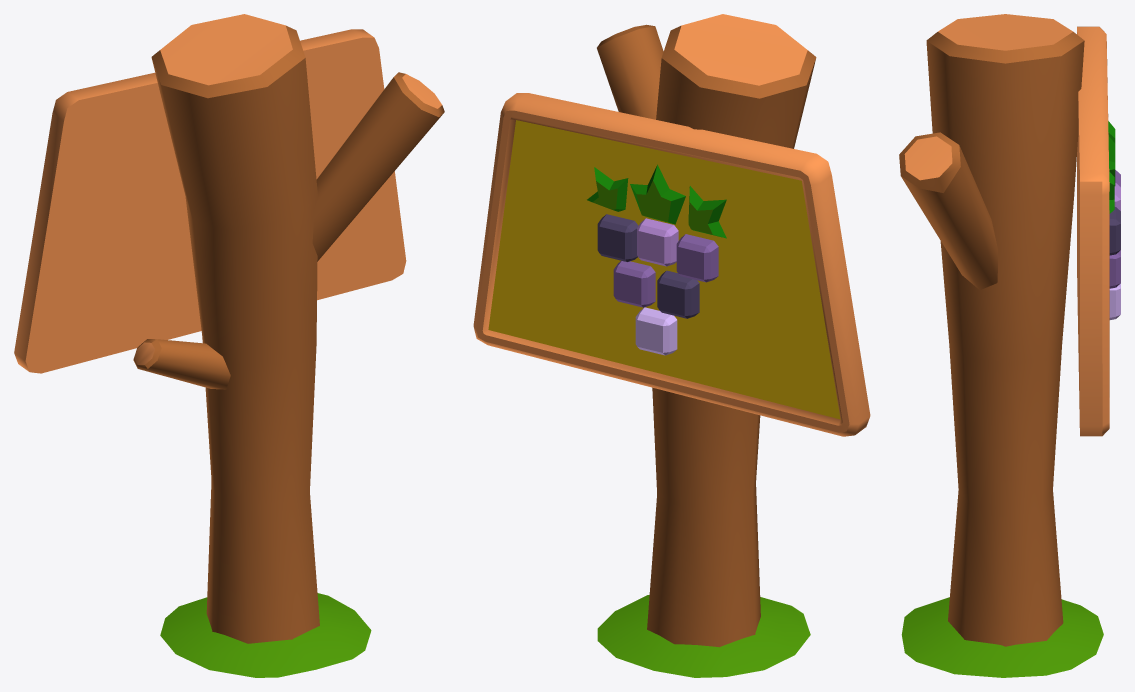
Rendered from SignGrape.fbx.
3 views of the same model, side by side, from view 1: azimuth 30°, elevation 25°; view 2: azimuth 150°, elevation 25°; view 3: azimuth 270°, elevation 25° (orthographic).
Visible parts, largest first — view 1: SignGrape_LOD0; view 2: SignGrape_LOD0; view 3: SignGrape_LOD0.
Part boxes in pixels (<box>): SignGrape_LOD0: <box>14,14,444,677</box>; SignGrape_LOD0: <box>473,14,870,677</box>; SignGrape_LOD0: <box>899,14,1120,677</box>.
Size of what is drawn, in the model's own units: 49.48 by 74.24 by 25.1.
